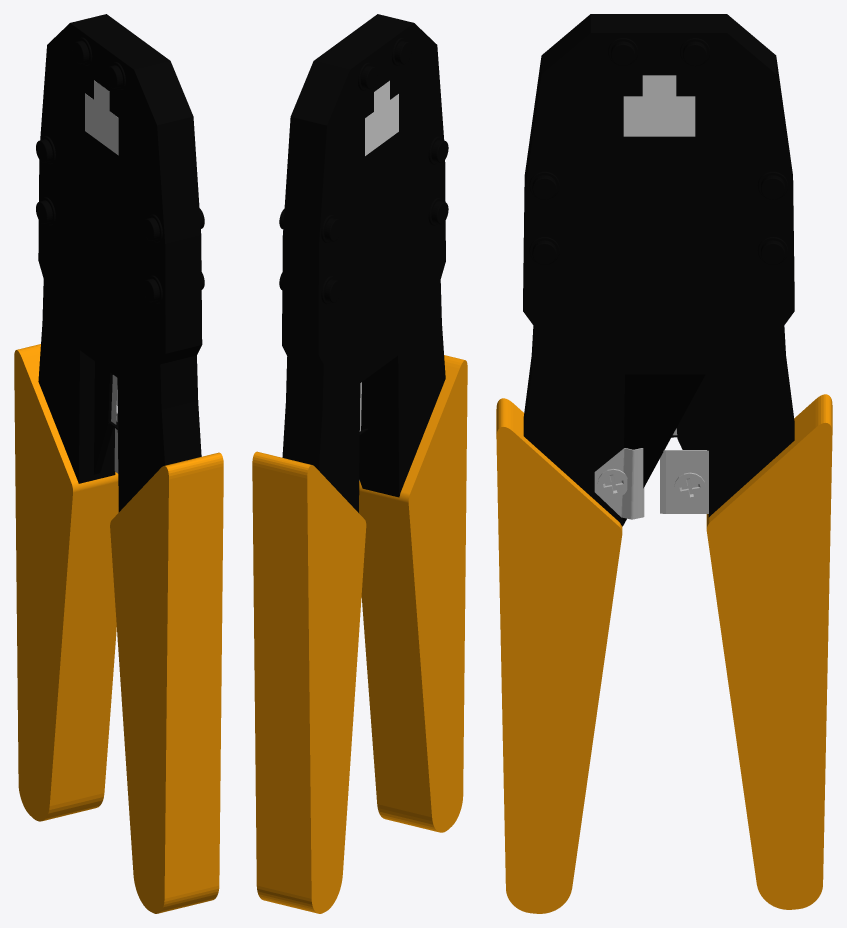
File: Crimping Tool.fbx
The picture shows the model from 3 angles, left to right: view 1: azimuth 30°, elevation 25°; view 2: azimuth 150°, elevation 25°; view 3: azimuth 270°, elevation 25°; orthographic projection. The views are drawn at different scales.
Parts seen in each view (by area): view 1: Cube.002, Cube, Cube.008, Cube.003, Cube.007, Cylinder.002, Cylinder.003, Cylinder, Cylinder.001, Cylinder.004; view 2: Cube.002, Cube.008, Cube, Cube.007, Cylinder, Cylinder.001, Cylinder.002; view 3: Cube.002, Cube.008, Cube, Cube.007, Cube.001, Cube.004, Cube.003, Cylinder, Cylinder.002, Cylinder.003, Cylinder.004, Cylinder.005 (+1 smaller).
Boxes of the visible parts, <box> form: Cube.002: <box>38,14,202,512</box>; Cube: <box>110,452,223,913</box>; Cube.008: <box>14,344,118,821</box>; Cube.003: <box>94,361,113,474</box>; Cube.007: <box>85,80,118,155</box>; Cylinder.002: <box>143,208,204,242</box>; Cylinder.003: <box>143,272,204,303</box>; Cylinder: <box>36,136,55,163</box>; Cylinder.001: <box>36,197,55,225</box>; Cylinder.004: <box>72,37,92,65</box>; Cube.002: <box>282,14,445,512</box>; Cube.008: <box>252,451,366,913</box>; Cube: <box>359,355,467,832</box>; Cube.007: <box>365,80,398,155</box>; Cylinder: <box>279,208,341,242</box>; Cylinder.001: <box>279,272,341,304</box>; Cylinder.002: <box>428,136,448,164</box>; Cube.002: <box>523,14,794,526</box>; Cube.008: <box>706,394,832,909</box>; Cube: <box>496,398,622,913</box>; Cube.007: <box>623,75,695,136</box>; Cube.001: <box>660,450,708,513</box>; Cube.004: <box>594,448,644,519</box>; Cube.003: <box>676,375,706,449</box>; Cylinder: <box>757,171,788,199</box>; Cylinder.002: <box>529,171,559,199</box>; Cylinder.003: <box>529,237,559,264</box>; Cylinder.004: <box>680,38,710,66</box>; Cylinder.005: <box>608,38,638,65</box>.
Size of the model in its own units: 31.44 by 430 by 149.
